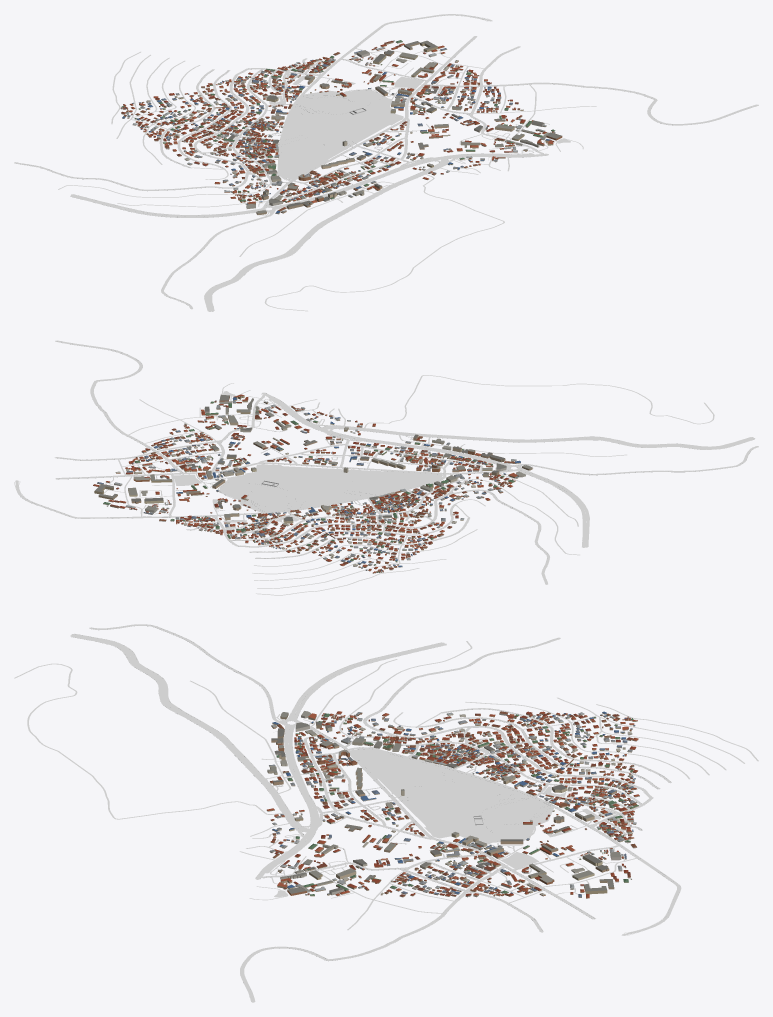
File: city.glb
3 views of the same model, one above another, from view 1: azimuth 30°, elevation 25°; view 2: azimuth 150°, elevation 25°; view 3: azimuth 270°, elevation 25° (orthographic). The views are drawn at different scales.
Visible parts, largest first — view 1: C_Road, C_Sheet, C_House, C_Sidewalk, C_Paving, C_RoofFlat, C_Office, C_Parking, C_Lawn; view 2: C_Road, C_Sheet, C_House, C_Sidewalk, C_Paving, C_RoofFlat, C_Parking, C_Office, C_Lawn, C_Kerb; view 3: C_Road, C_Sheet, C_House, C_Sidewalk, C_Paving, C_RoofFlat, C_Parking, C_Lawn, C_Office, C_Kerb.
Part boxes in pixels (left/top/right/bottom): C_Road: left=14, top=14, right=758, bottom=311; C_Sheet: left=121, top=40, right=555, bottom=213; C_House: left=121, top=41, right=555, bottom=214; C_Sidewalk: left=15, top=14, right=758, bottom=310; C_Paving: left=276, top=92, right=357, bottom=179; C_RoofFlat: left=175, top=40, right=561, bottom=213; C_Office: left=175, top=42, right=562, bottom=214; C_Parking: left=233, top=73, right=570, bottom=160; C_Lawn: left=280, top=89, right=403, bottom=179; C_Road: left=16, top=340, right=758, bottom=595; C_Sheet: left=93, top=394, right=520, bottom=572; C_House: left=93, top=396, right=520, bottom=573; C_Sidewalk: left=15, top=340, right=758, bottom=584; C_Paving: left=247, top=469, right=442, bottom=510; C_RoofFlat: left=95, top=394, right=532, bottom=557; C_Parking: left=174, top=391, right=421, bottom=529; C_Office: left=94, top=396, right=532, bottom=558; C_Lawn: left=219, top=464, right=442, bottom=512; C_Kerb: left=16, top=358, right=729, bottom=566; C_Road: left=14, top=624, right=758, bottom=1002; C_Sheet: left=267, top=711, right=639, bottom=897; C_House: left=266, top=712, right=639, bottom=898; C_Sidewalk: left=72, top=624, right=680, bottom=1001; C_Paving: left=350, top=746, right=549, bottom=822; C_RoofFlat: left=267, top=711, right=625, bottom=893; C_Parking: left=274, top=741, right=616, bottom=897; C_Lawn: left=352, top=749, right=553, bottom=842; C_Office: left=267, top=713, right=625, bottom=895; C_Kerb: left=96, top=624, right=677, bottom=974.
Size of the model in its own units: 3035 by 18 by 2524.
